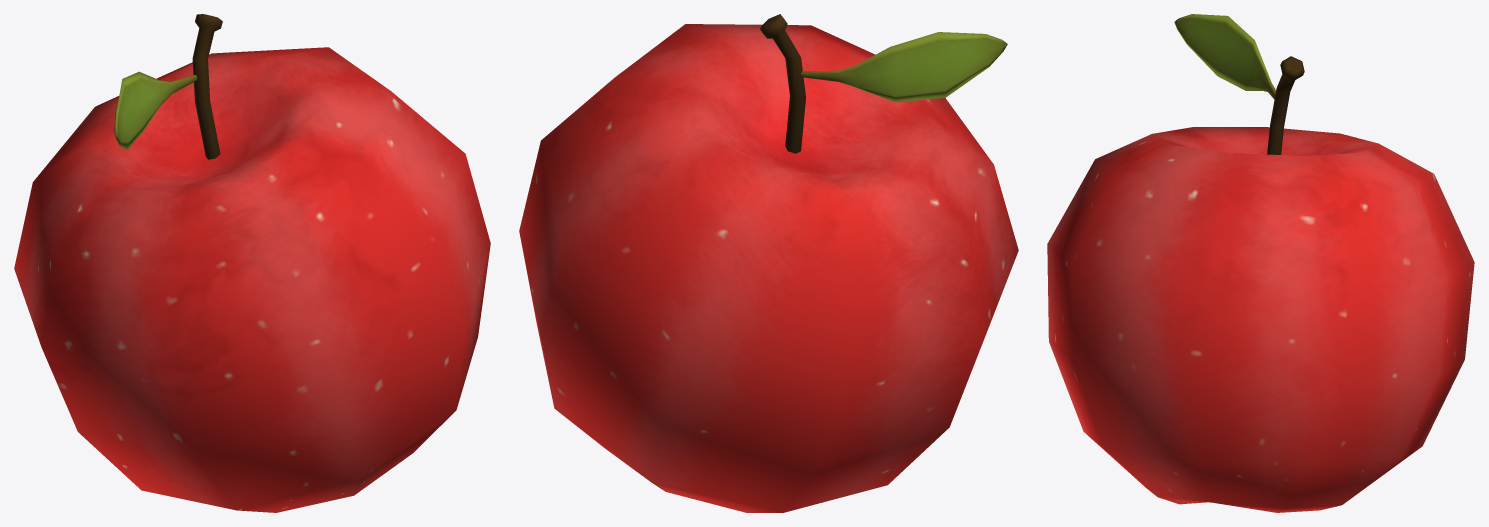
The model's file is apple.glb.
3 renders of one model, left to right at view 1: azimuth 30°, elevation 25°; view 2: azimuth 150°, elevation 25°; view 3: azimuth 270°, elevation 25°, orthographic. The views are drawn at different scales.
Parts seen in each view (by area): view 1: Apple_lambert1_0; view 2: Apple_lambert1_0; view 3: Apple_lambert1_0.
Boxes of the visible parts, box(x1,y1,x2,y2) form: Apple_lambert1_0: box(14, 14, 490, 512); Apple_lambert1_0: box(519, 14, 1018, 512); Apple_lambert1_0: box(1047, 14, 1474, 512).
Bounding box in the file's own units: 0.0897 × 0.0989 × 0.0896.
1 material, 1 textured.
